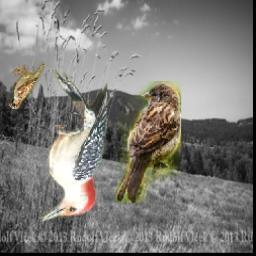Sparrow: (116, 81, 182, 203), (8, 62, 45, 109)
Woodpecker: (36, 70, 108, 223)
